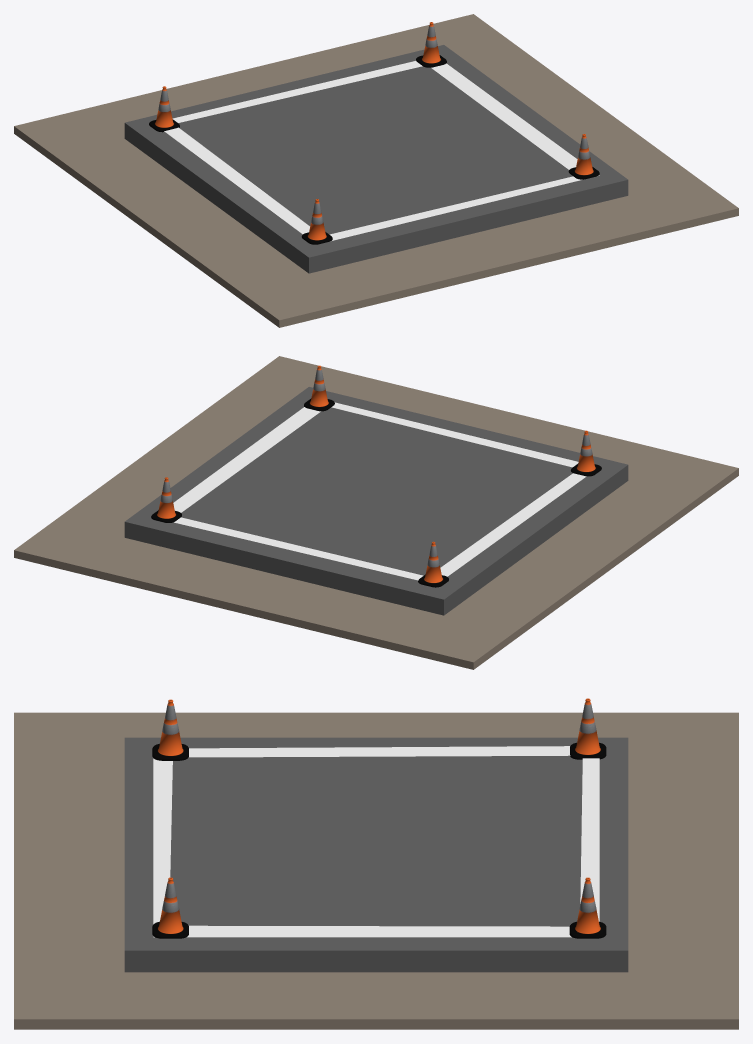
Rendered from construction site.glb.
3 renders of one model, top to bottom at view 1: azimuth 30°, elevation 25°; view 2: azimuth 150°, elevation 25°; view 3: azimuth 270°, elevation 25°, orthographic. The views are drawn at different scales.
Parts seen in each view (by area): view 1: Plane, Plane.001, Plane.002, traffic cone, traffic cone.001, traffic cone.002, traffic cone.003; view 2: Plane, Plane.001, Plane.002, traffic cone, traffic cone.001, traffic cone.003, traffic cone.002; view 3: Plane, Plane.001, Plane.002, traffic cone.002, traffic cone.001, traffic cone, traffic cone.003.
Boxes of the visible parts, bbox=[...] form: Plane: bbox=[14, 14, 738, 327]; Plane.001: bbox=[124, 45, 628, 273]; Plane.002: bbox=[164, 61, 599, 240]; traffic cone: bbox=[301, 199, 332, 244]; traffic cone.001: bbox=[568, 134, 599, 179]; traffic cone.002: bbox=[416, 22, 446, 67]; traffic cone.003: bbox=[149, 86, 179, 132]; Plane: bbox=[14, 356, 738, 669]; Plane.001: bbox=[124, 387, 628, 615]; Plane.002: bbox=[173, 402, 586, 580]; traffic cone: bbox=[571, 430, 601, 476]; traffic cone.001: bbox=[304, 365, 334, 411]; traffic cone.003: bbox=[418, 541, 448, 587]; traffic cone.002: bbox=[151, 477, 181, 522]; Plane: bbox=[14, 712, 738, 1029]; Plane.001: bbox=[124, 737, 628, 972]; Plane.002: bbox=[153, 746, 599, 937]; traffic cone.002: bbox=[569, 877, 606, 938]; traffic cone.001: bbox=[152, 877, 188, 938]; traffic cone: bbox=[152, 699, 188, 760]; traffic cone.003: bbox=[570, 698, 606, 759].
Bounding box in the file's own units: 10.16 × 1.35 × 10.16.
7 materials, 4 textured.
